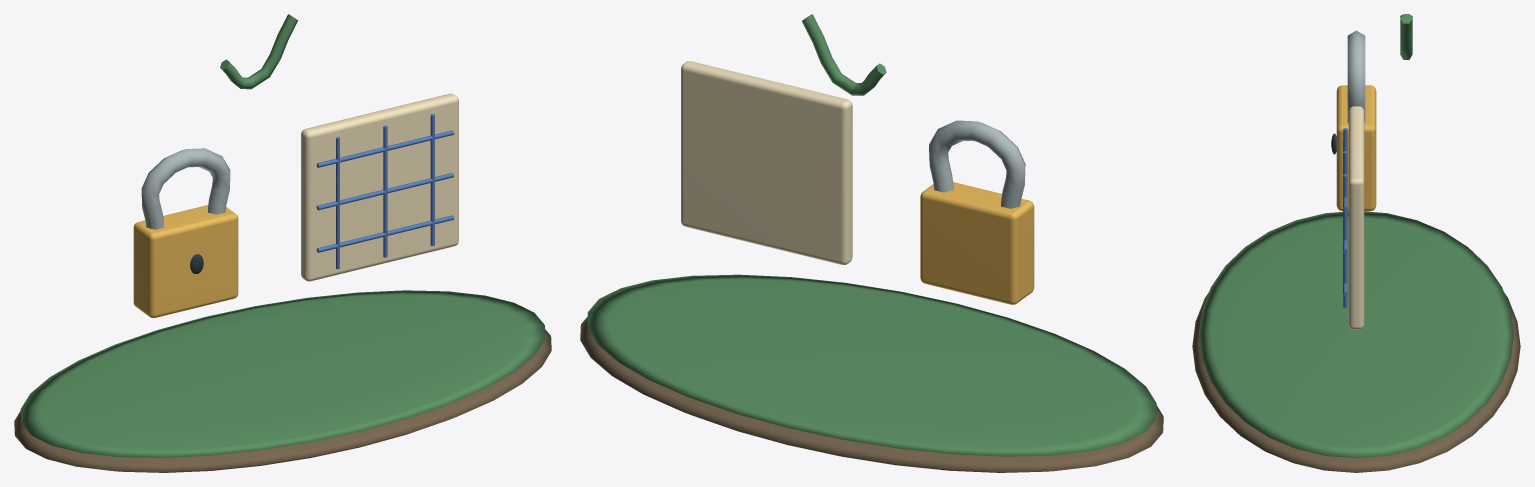
Rendered from complete-third-strict-grid.glb.
3 renders of one model, left to right at view 1: azimuth 30°, elevation 25°; view 2: azimuth 150°, elevation 25°; view 3: azimuth 270°, elevation 25°, orthographic. The views are drawn at different scales.
Parts seen in each view (by area): view 1: complete-third-strict-grid_surface_01, complete-third-strict-grid_surface_05, complete-third-strict-grid_surface_02, complete-third-strict-grid_surface_00, complete-third-strict-grid_surface_06, complete-third-strict-grid_surface_03; view 2: complete-third-strict-grid_surface_01, complete-third-strict-grid_surface_05, complete-third-strict-grid_surface_02, complete-third-strict-grid_surface_00, complete-third-strict-grid_surface_03; view 3: complete-third-strict-grid_surface_01, complete-third-strict-grid_surface_00, complete-third-strict-grid_surface_05, complete-third-strict-grid_surface_02, complete-third-strict-grid_surface_03, complete-third-strict-grid_surface_06.
Part boxes in pixels (<box>): complete-third-strict-grid_surface_01: <box>20,14,545,457</box>; complete-third-strict-grid_surface_05: <box>301,93,458,281</box>; complete-third-strict-grid_surface_02: <box>133,205,238,317</box>; complete-third-strict-grid_surface_00: <box>14,329,551,472</box>; complete-third-strict-grid_surface_06: <box>316,114,454,269</box>; complete-third-strict-grid_surface_03: <box>141,148,230,229</box>; complete-third-strict-grid_surface_01: <box>587,14,1156,456</box>; complete-third-strict-grid_surface_05: <box>681,61,852,264</box>; complete-third-strict-grid_surface_02: <box>920,182,1034,304</box>; complete-third-strict-grid_surface_00: <box>580,317,1163,472</box>; complete-third-strict-grid_surface_03: <box>929,120,1025,208</box>; complete-third-strict-grid_surface_01: <box>1199,14,1513,458</box>; complete-third-strict-grid_surface_00: <box>1192,292,1520,472</box>; complete-third-strict-grid_surface_05: <box>1348,106,1364,329</box>; complete-third-strict-grid_surface_02: <box>1336,85,1376,211</box>; complete-third-strict-grid_surface_03: <box>1347,30,1365,122</box>; complete-third-strict-grid_surface_06: <box>1343,128,1347,307</box>.
Bounding box in the file's own units: 4.56 × 3.05 × 2.5.
